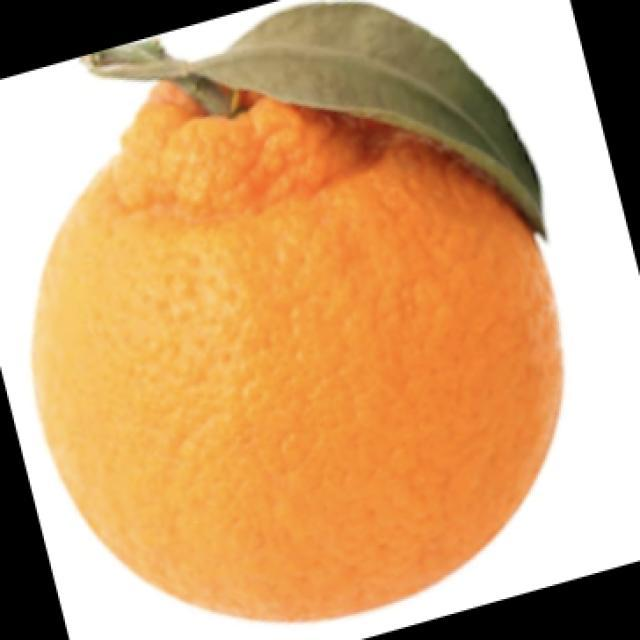matang: (33, 85, 560, 619)
